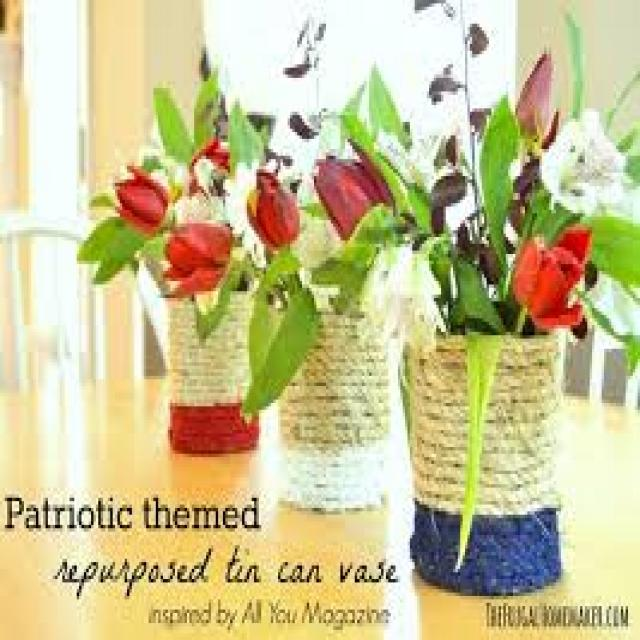organic waste: (242, 254, 314, 413), (238, 271, 316, 416), (537, 98, 633, 207), (343, 82, 412, 224), (506, 230, 585, 346), (304, 139, 388, 237), (568, 261, 638, 372), (477, 88, 511, 298), (77, 193, 153, 281), (307, 227, 376, 305), (156, 220, 235, 288), (575, 207, 638, 291), (240, 166, 304, 247), (180, 139, 247, 213), (522, 41, 558, 159), (367, 44, 402, 156), (113, 159, 170, 224), (148, 81, 196, 152), (220, 95, 264, 169), (187, 61, 225, 146), (189, 264, 242, 322), (125, 146, 175, 200), (427, 172, 477, 224), (350, 193, 403, 240), (426, 132, 474, 176), (290, 17, 338, 54), (458, 98, 503, 132), (462, 10, 492, 54), (427, 64, 458, 98), (290, 105, 324, 135), (242, 102, 273, 128), (278, 58, 314, 74), (268, 149, 295, 169), (139, 240, 168, 258), (412, 0, 446, 14)
